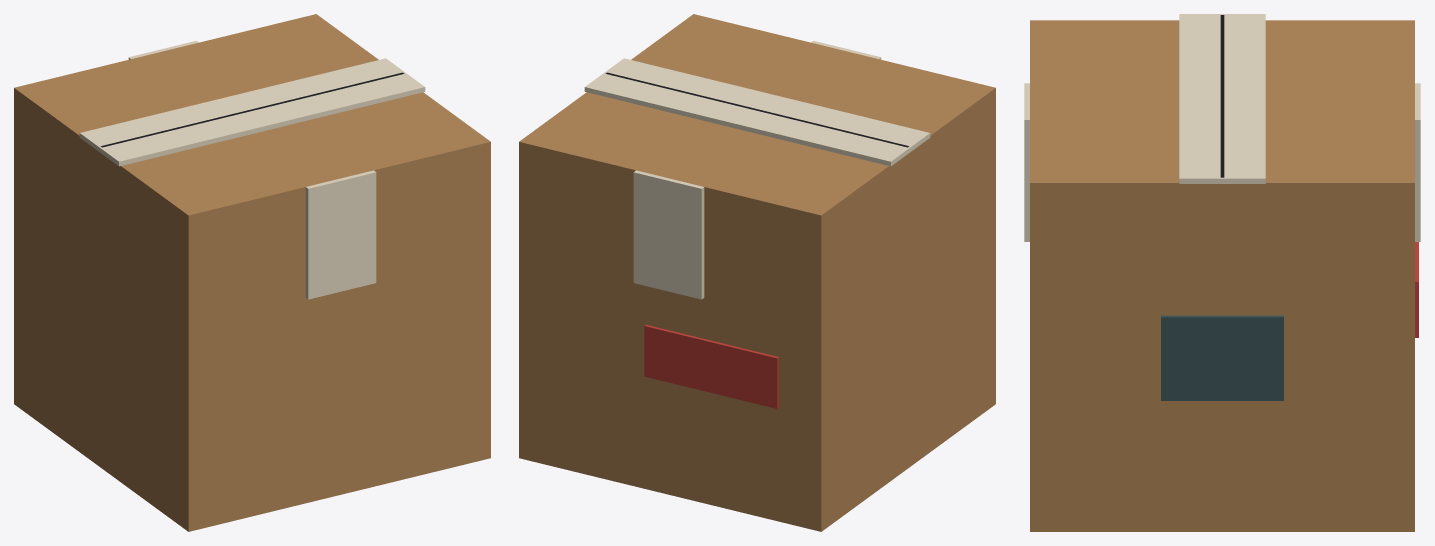
File: SM_PRP_CaixaP.fbx
3 views of the same model, side by side, from view 1: azimuth 30°, elevation 25°; view 2: azimuth 150°, elevation 25°; view 3: azimuth 270°, elevation 25° (orthographic). The views are drawn at different scales.
Visible parts, largest first — view 1: SM_PRP_CaixaP; view 2: SM_PRP_CaixaP; view 3: SM_PRP_CaixaP.
Part boxes in pixels (left/top/right/bottom): SM_PRP_CaixaP: left=14, top=14, right=490, bottom=531; SM_PRP_CaixaP: left=519, top=14, right=995, bottom=531; SM_PRP_CaixaP: left=1024, top=14, right=1420, bottom=531.
Size of the model in its own units: 0.4065 by 0.406 by 0.412.
